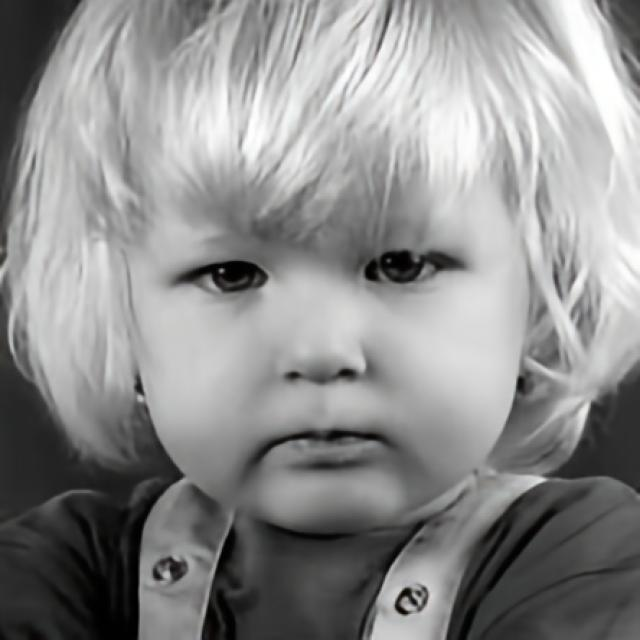anger: (118, 51, 525, 536)
